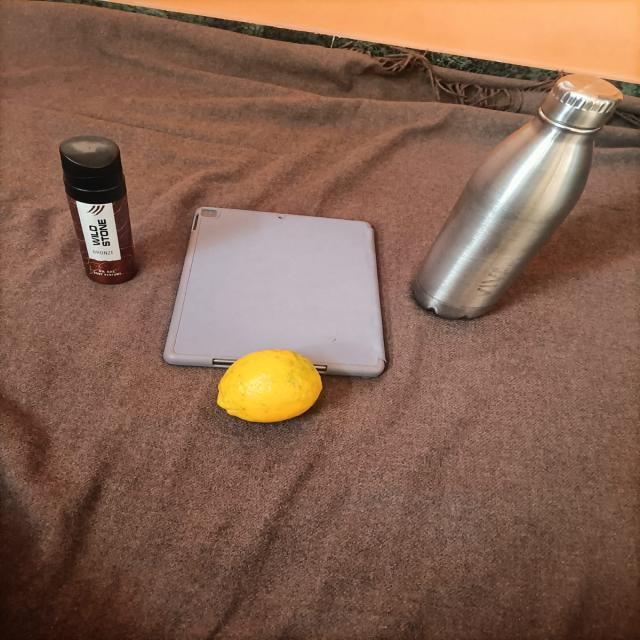bottle: (409, 17, 630, 347)
orange: (204, 344, 337, 429)
spray: (46, 130, 148, 303)
tablet: (167, 175, 396, 378)
